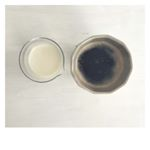cups: (69, 33, 136, 95), (17, 34, 68, 85)
